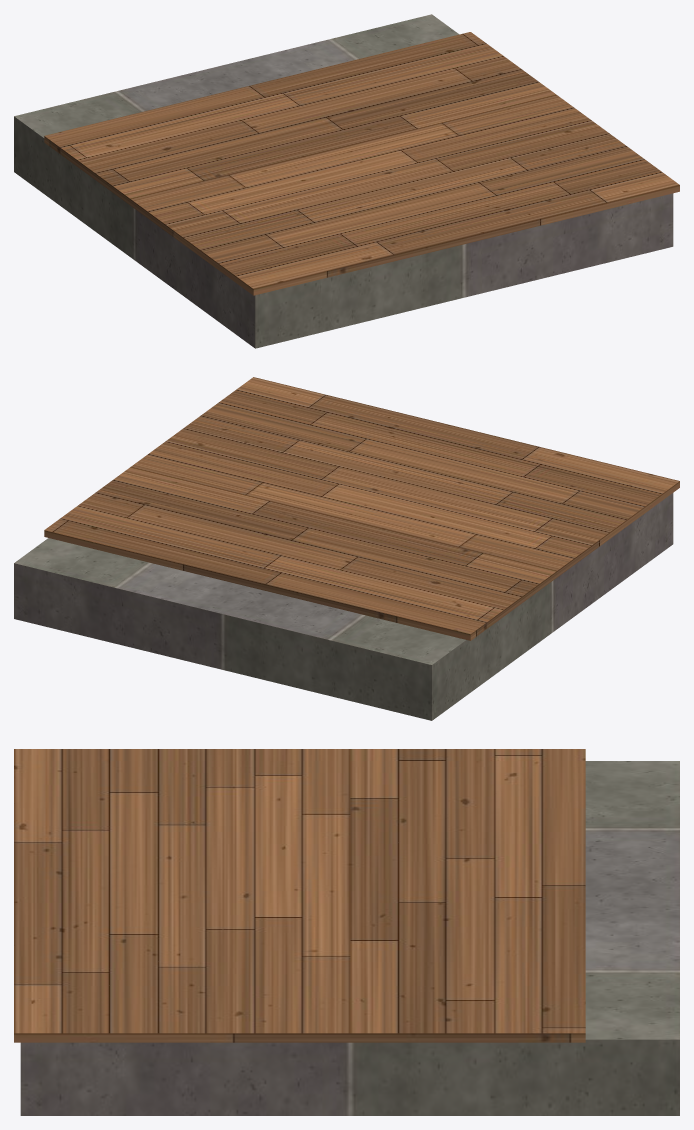
The model's file is floor_floor_g_e0010.glb.
The picture shows the model from 3 angles, top to bottom: view 1: azimuth 30°, elevation 25°; view 2: azimuth 150°, elevation 25°; view 3: azimuth 270°, elevation 25°; orthographic projection. The views are drawn at different scales.
Parts seen in each view (by area): view 1: floor_floor_g_e0010_floor, floor_floor_g_e0010_plinth; view 2: floor_floor_g_e0010_floor, floor_floor_g_e0010_plinth; view 3: floor_floor_g_e0010_floor, floor_floor_g_e0010_plinth.
Boxes of the visible parts, <box> form: floor_floor_g_e0010_floor: <box>44,32,679,295</box>; floor_floor_g_e0010_plinth: <box>14,14,673,348</box>; floor_floor_g_e0010_floor: <box>44,377,679,640</box>; floor_floor_g_e0010_plinth: <box>14,493,673,720</box>; floor_floor_g_e0010_floor: <box>14,749,585,1042</box>; floor_floor_g_e0010_plinth: <box>20,761,679,1115</box>.
Bounding box in the file's own units: 2 × 0.28 × 1.98.
Materials: 2 (2 with a texture image).
